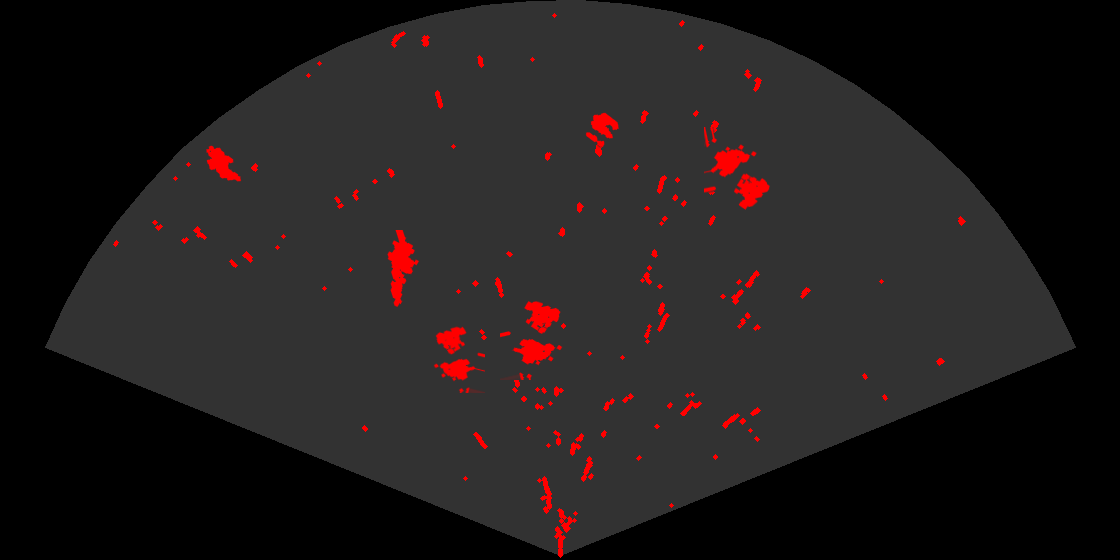AUV: (205, 144, 243, 183)
ball: (584, 111, 620, 148)
cage: (704, 127, 771, 211), (500, 300, 564, 380), (432, 325, 485, 393)
frogman: (386, 230, 421, 308)
